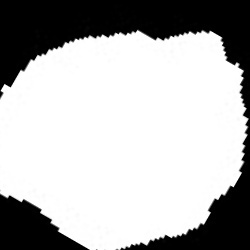spot: (1, 30, 247, 248)
